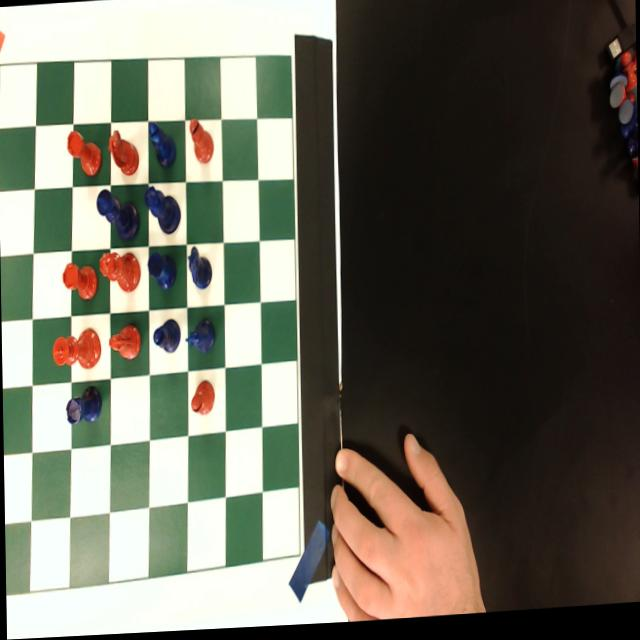B: (147, 118, 176, 173), (150, 318, 180, 360)
K: (92, 187, 138, 244)
N: (182, 316, 215, 360), (186, 244, 212, 294)
Q: (142, 185, 180, 237)
R: (63, 383, 101, 430), (146, 251, 177, 294)
b: (187, 116, 214, 166), (188, 379, 214, 420)
k: (49, 326, 101, 372)
n: (105, 127, 138, 179), (106, 320, 141, 362)
q: (98, 250, 140, 295)
r: (65, 126, 101, 179), (60, 259, 97, 301)
